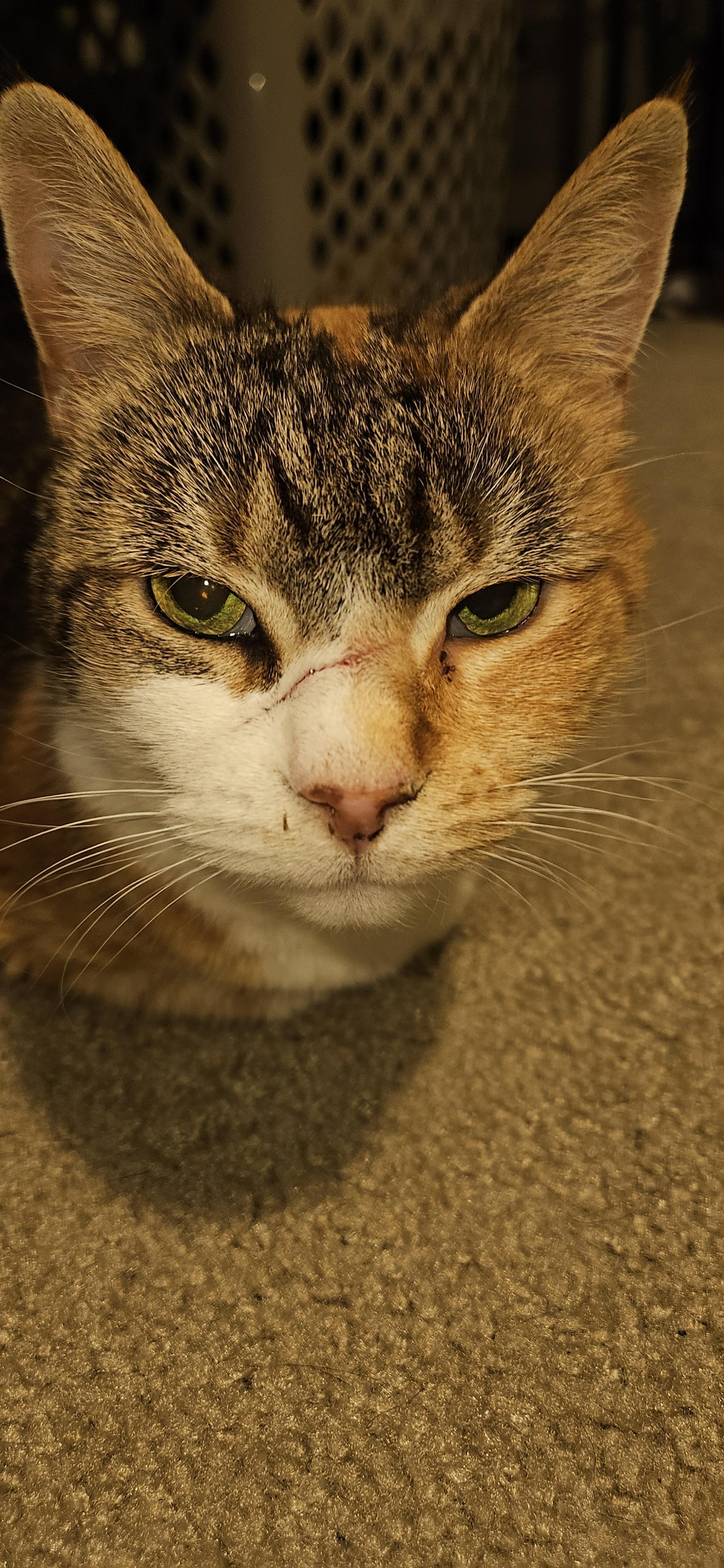cut: (179, 609, 454, 769)
